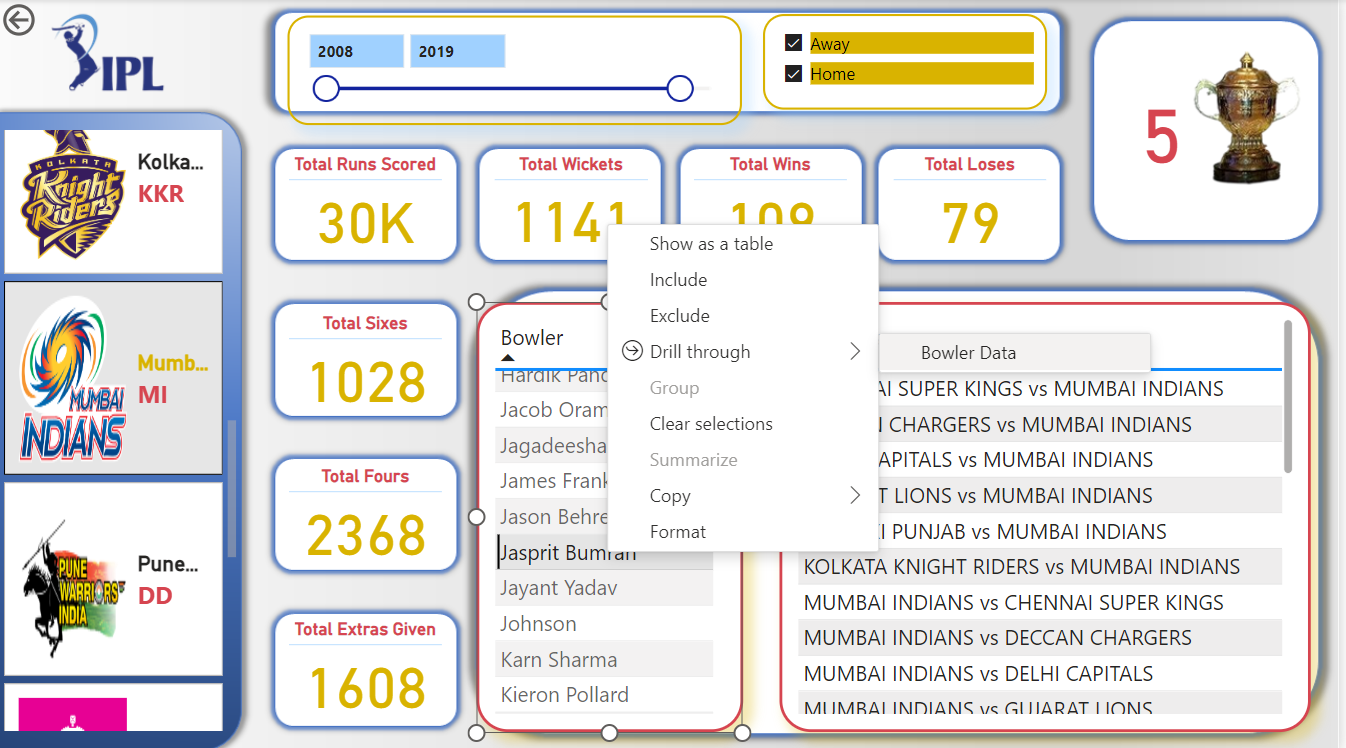

Layout of this report page (visuals, bound fields, positions):
{"tool":"powerbi","page":{"name":"Main Page","canvas":[1280,720],"ordinal":1},"visuals":[{"type":"card","fields":{"Values":["Min(Triumphs.Total Trophies)"]},"box":[1016.7,14.2,186.3,212.7],"z":0},{"type":"card","title":"Total Wickets","fields":{"Values":["Extras.Total Wickets"]},"box":[474,147.9,146.3,92.3],"z":1000},{"type":"card","title":"Total Sixes","fields":{"Values":["Batters.Total_6s"]},"box":[277.5,299.7,145.8,93.2],"z":2000},{"type":"card","title":"Total Fours","fields":{"Values":["Batters.Total_4s"]},"box":[277.5,445.6,145.8,93.2],"z":3000},{"type":"card","title":"Total Extras Given","fields":{"Values":["Extras.Total Extras"]},"box":[277.5,591.4,145.8,93.2],"z":4000},{"type":"card","title":"Total Wins","fields":{"Values":["Finaldata.Total Wins"]},"box":[664.3,147.8,145.8,93.2],"z":5000},{"type":"card","title":"Total Loses","fields":{"Values":["Finaldata.Total Loses"]},"box":[854.7,147.8,145.8,93.2],"z":6000},{"type":"card","title":"Total Runs Scored","fields":{"Values":["Extras.Total Runs"]},"box":[277.5,147.8,145.8,93.2],"z":7000},{"type":"slicer","fields":{"Values":["Finaldata.HomeAway"]},"box":[731.1,14.2,271.4,91.1],"z":8000},{"type":"slicer","fields":{"Values":["Finaldata.IPL_year"]},"box":[276.8,15.9,434.2,105],"z":9000},{"type":"advancedSlicerVisual","fields":{"Values":["Logo.Team Name"]},"box":[0,120,232,580],"z":10000},{"type":"tableEx","fields":{"Values":["Bowlers.Bowler"]},"box":[456.5,289.5,254.5,410.4],"z":11000},{"type":"tableEx","fields":{"Values":["Finaldata.Match_Team"]},"box":[746,289.5,507.4,410.4],"z":12000},{"type":"actionButton","box":[0,0,100,40],"z":13000}]}

Visuals, with their boxes in screenshot pixels (x1, y1, x2, y2), scaled from the page's 1280x720 canvas onto the 1346x748 screenshot:
card - Min(Triumphs.Total Trophies): box(1069, 15, 1265, 236)
"Total Wickets" card: box(498, 154, 652, 250)
"Total Sixes" card: box(292, 311, 445, 408)
"Total Fours" card: box(292, 463, 445, 560)
"Total Extras Given" card: box(292, 614, 445, 711)
"Total Wins" card: box(699, 154, 852, 250)
"Total Loses" card: box(899, 154, 1052, 250)
"Total Runs Scored" card: box(292, 154, 445, 250)
slicer - Finaldata.HomeAway: box(769, 15, 1054, 109)
slicer - Finaldata.IPL_year: box(291, 17, 748, 126)
advancedSlicerVisual - Logo.Team Name: box(0, 125, 244, 727)
tableEx - Bowlers.Bowler: box(480, 301, 748, 727)
tableEx - Finaldata.Match_Team: box(784, 301, 1318, 727)
actionButton: box(0, 0, 105, 42)
